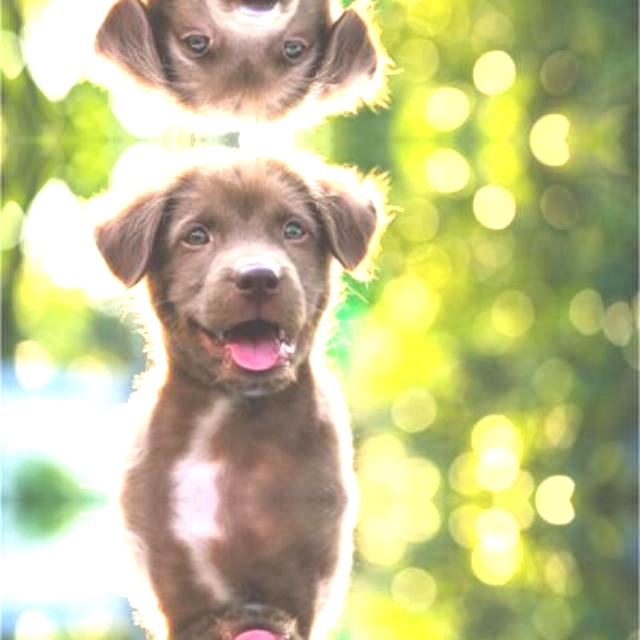dog: (89, 146, 391, 398), (89, 0, 391, 134), (89, 601, 391, 640)
